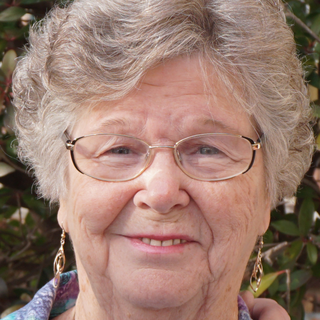eye: (97, 141, 143, 164), (181, 141, 229, 163)
